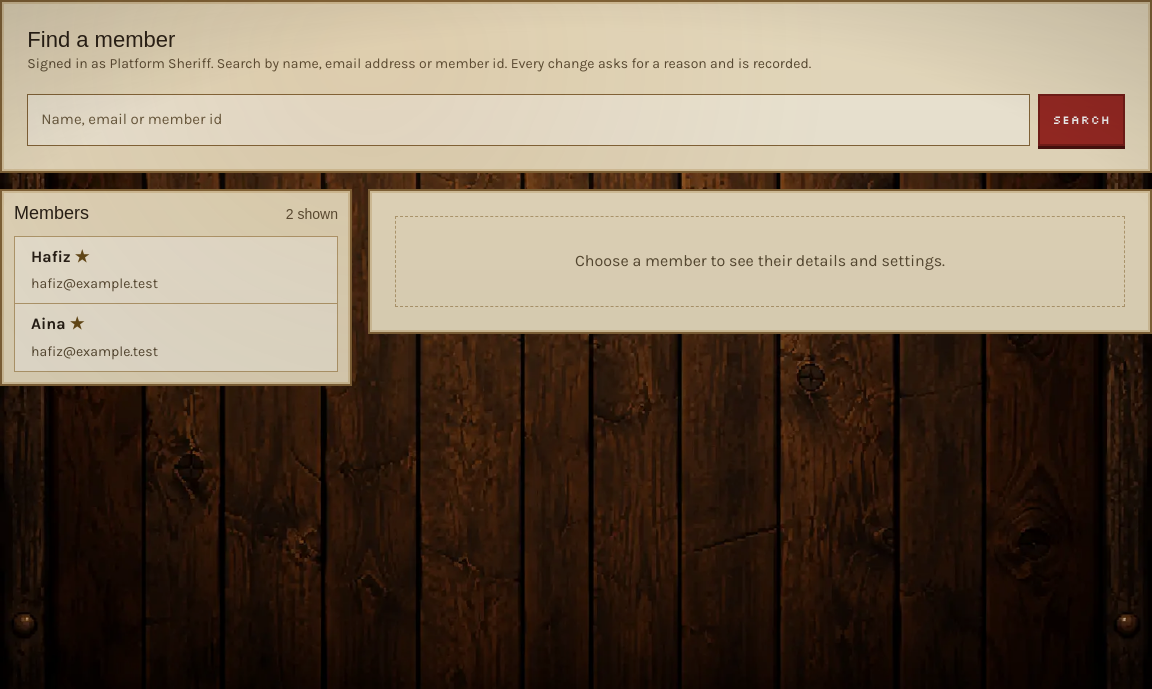
Scenario: lists members by name and opens one member's settings beside the list
The width and height of the screenshot is (1152, 689).
Expected: the text "Choose a member to see their details and settings." is shown, [395,216,1125,307]
Click the button with aria-label "Manage Aina" at (48, 324), box [15,304,337,371]
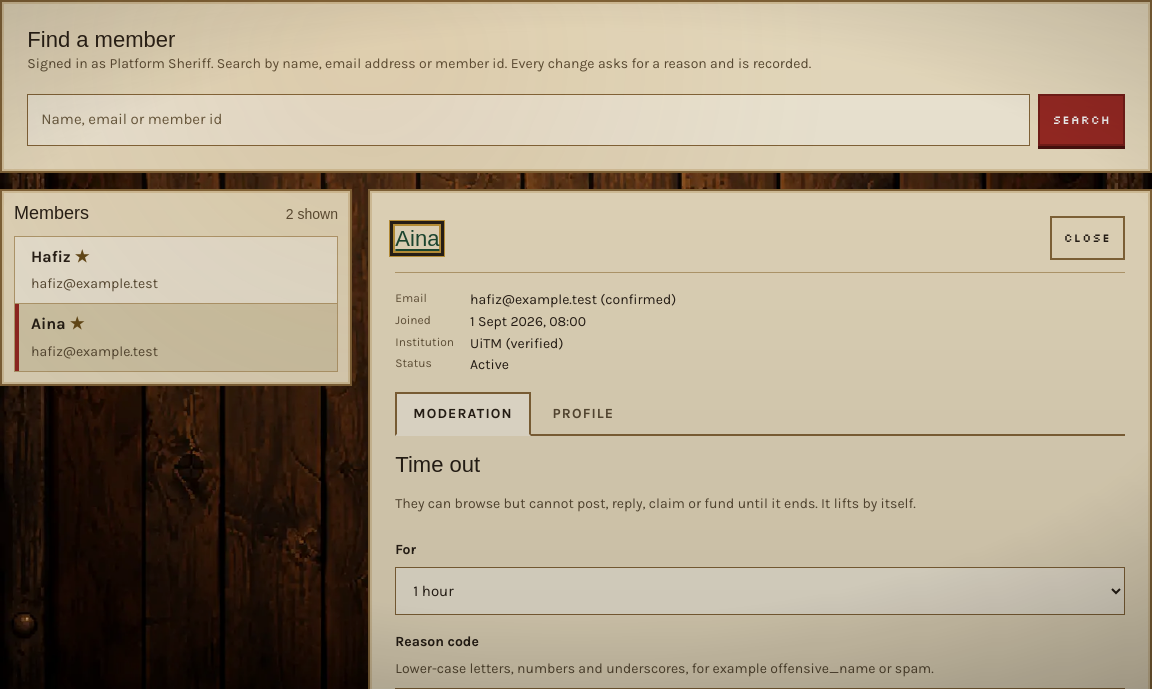
Result: the button with aria-label "Manage Aina" is pressed at [15,304,337,371]
Click the button "Close" at (1087, 238), box [1050,216,1125,260]
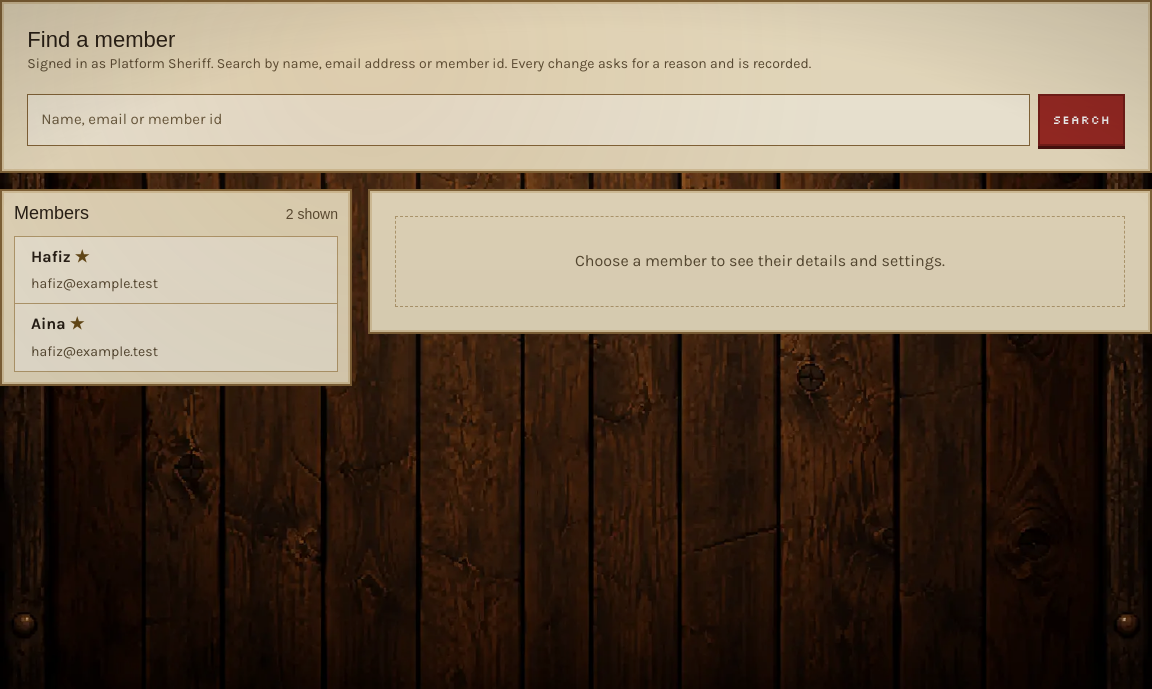
Result: the text "Choose a member to see their details and settings." is shown at [395,216,1125,307]
